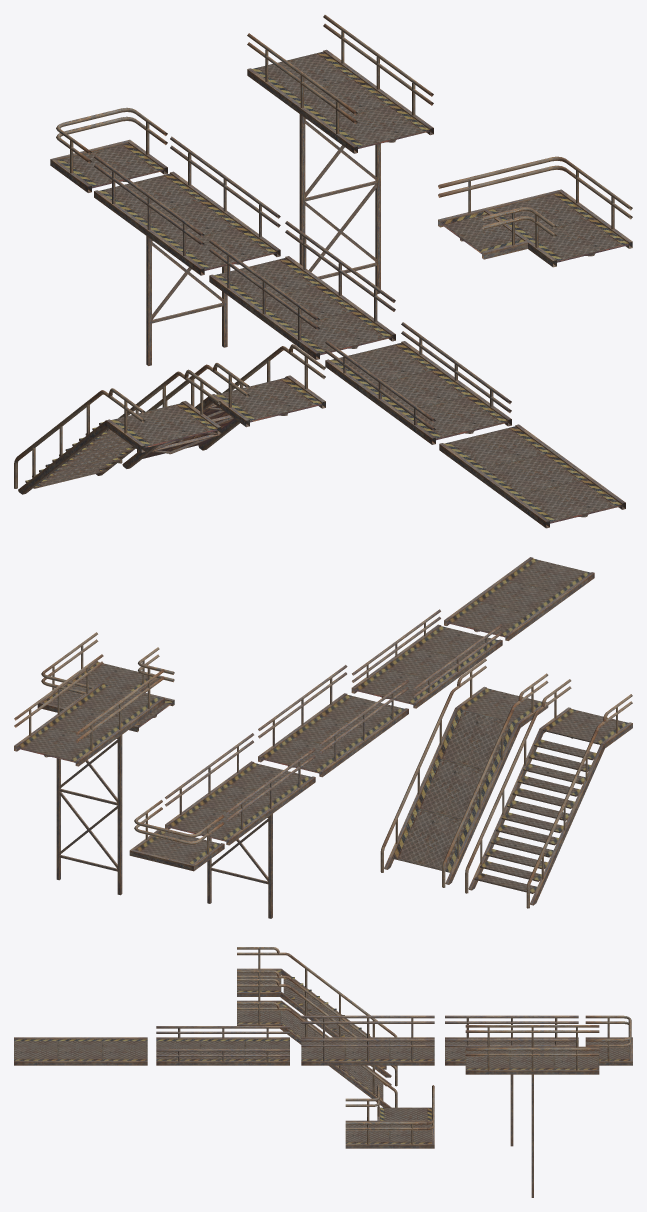
Rendered from Support_set_v1_bridge2.FBX.
3 renders of one model, top to bottom at view 1: azimuth 30°, elevation 25°; view 2: azimuth 150°, elevation 25°; view 3: azimuth 270°, elevation 25°, orthographic. The views are drawn at different scales.
Parts seen in each view (by area): view 1: Support_set_v1_bridge2_5, Support_set_v1_bridge2_1, Support_set_v1_bridge2_2, Support_set_v1_bridge2_B1, Support_set_v1_bridge2_3, Support_set_v1_bridge2_4, Support_set_v1_bridge2_S2, Support_set_v1_bridge2_S1, Support_set_v1_bridge2_E1; view 2: Support_set_v1_bridge2_S1, Support_set_v1_bridge2_S2, Support_set_v1_bridge2_5, Support_set_v1_bridge2_1, Support_set_v1_bridge2_2, Support_set_v1_bridge2_3, Support_set_v1_bridge2_4, Support_set_v1_bridge2_B1, Support_set_v1_bridge2_E1; view 3: Support_set_v1_bridge2_5, Support_set_v1_bridge2_2, Support_set_v1_bridge2_3, Support_set_v1_bridge2_S1, Support_set_v1_bridge2_S2, Support_set_v1_bridge2_4, Support_set_v1_bridge2_B1, Support_set_v1_bridge2_1, Support_set_v1_bridge2_E1.
Part boxes in pixels (<box>): Support_set_v1_bridge2_5: <box>247,15,433,293</box>; Support_set_v1_bridge2_1: <box>94,136,280,365</box>; Support_set_v1_bridge2_2: <box>209,221,395,359</box>; Support_set_v1_bridge2_B1: <box>438,156,632,267</box>; Support_set_v1_bridge2_3: <box>325,322,511,444</box>; Support_set_v1_bridge2_4: <box>439,424,625,528</box>; Support_set_v1_bridge2_S2: <box>14,369,221,494</box>; Support_set_v1_bridge2_S1: <box>118,344,325,468</box>; Support_set_v1_bridge2_E1: <box>50,107,167,192</box>; Support_set_v1_bridge2_S1: <box>380,658,548,887</box>; Support_set_v1_bridge2_S2: <box>465,679,632,908</box>; Support_set_v1_bridge2_5: <box>14,654,164,895</box>; Support_set_v1_bridge2_1: <box>165,733,315,918</box>; Support_set_v1_bridge2_2: <box>258,665,408,777</box>; Support_set_v1_bridge2_3: <box>351,609,502,708</box>; Support_set_v1_bridge2_4: <box>444,557,594,640</box>; Support_set_v1_bridge2_B1: <box>37,632,174,732</box>; Support_set_v1_bridge2_E1: <box>129,800,224,871</box>; Support_set_v1_bridge2_5: <box>465,1025,599,1197</box>; Support_set_v1_bridge2_2: <box>301,1015,434,1065</box>; Support_set_v1_bridge2_3: <box>156,1026,289,1065</box>; Support_set_v1_bridge2_S1: <box>237,979,397,1107</box>; Support_set_v1_bridge2_S2: <box>237,947,397,1077</box>; Support_set_v1_bridge2_4: <box>14,1037,147,1065</box>; Support_set_v1_bridge2_B1: <box>345,1085,434,1148</box>; Support_set_v1_bridge2_1: <box>445,1015,578,1146</box>; Support_set_v1_bridge2_E1: <box>585,1015,632,1065</box>.
Size of the model in its own units: 15.16 by 6 by 22.5.
